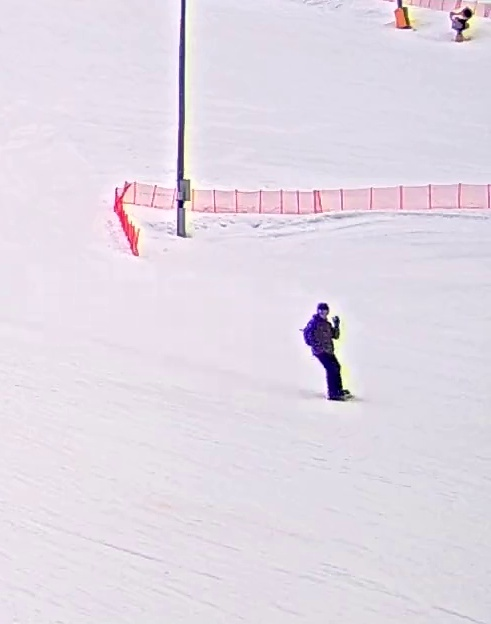snowboarder: (298, 300, 357, 404)
